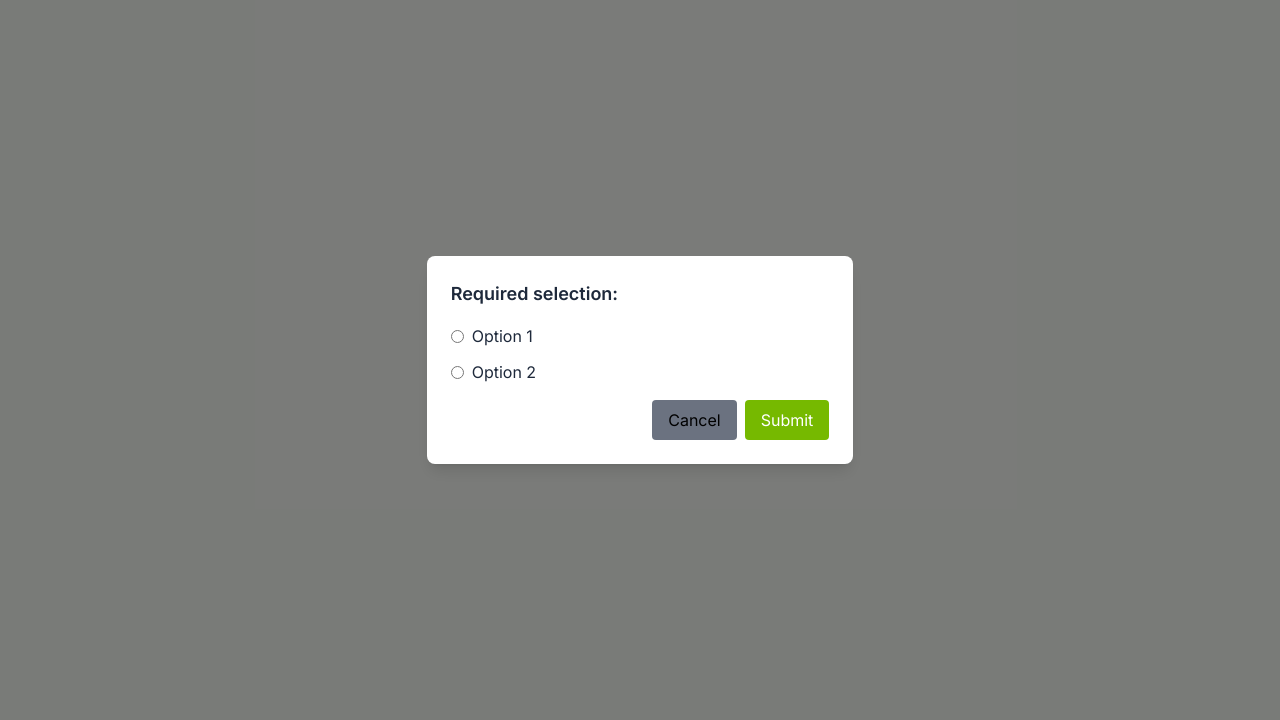
InteractionModal and Human-in-the-Loop Functionality › InteractionModal Component - Radio Selection Type › should validate required radio selection
Click the button "Submit": (787, 420) top-left (745, 400), bottom-right (829, 440)
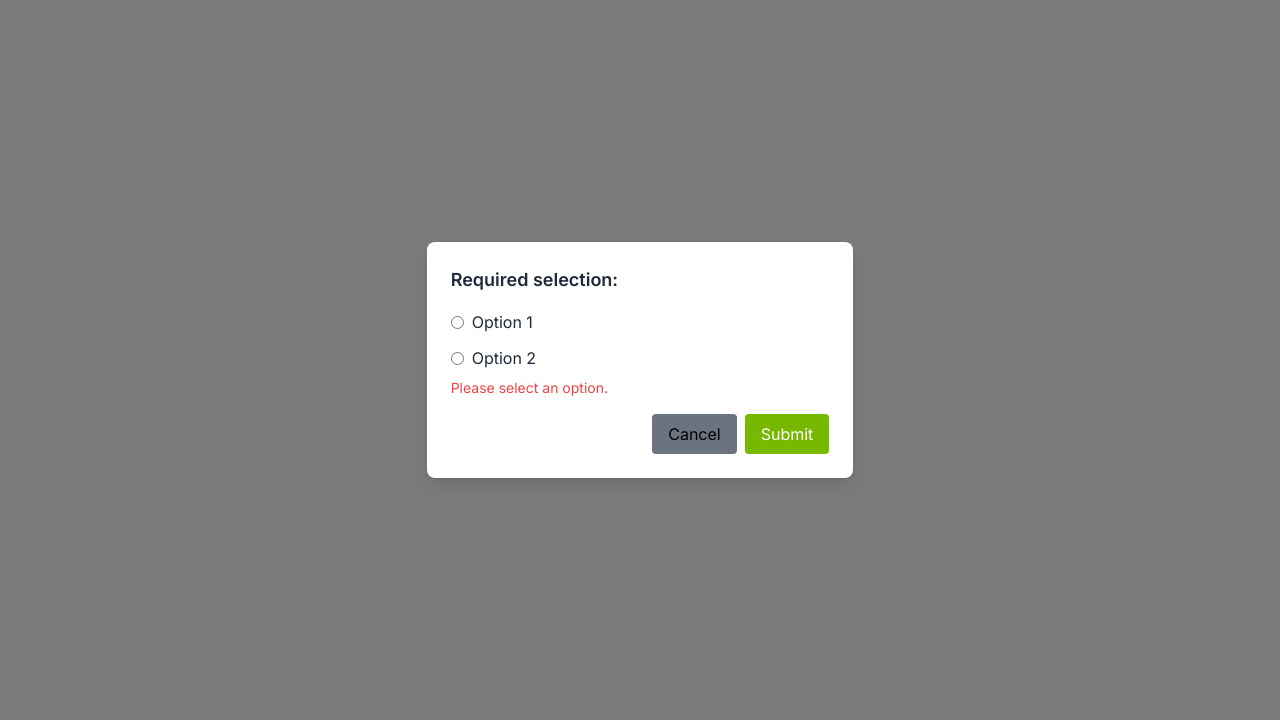
Check: the text "Please select an option." is shown, box top-left (451, 379), bottom-right (608, 396)
